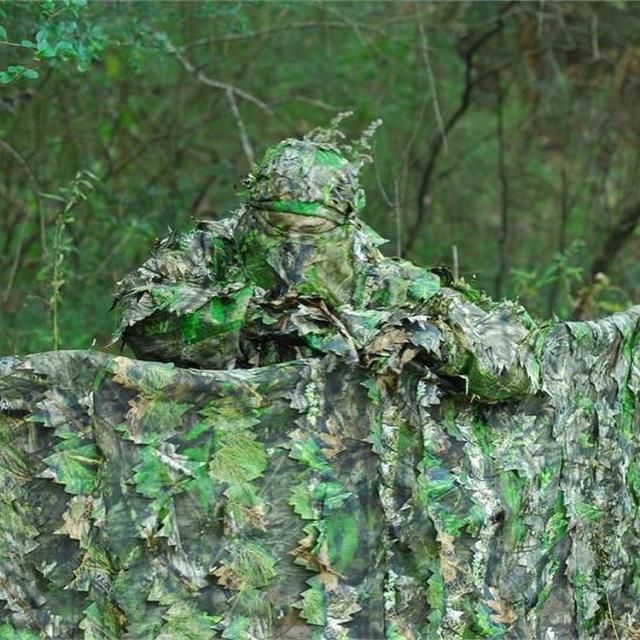human: (113, 128, 561, 408)
